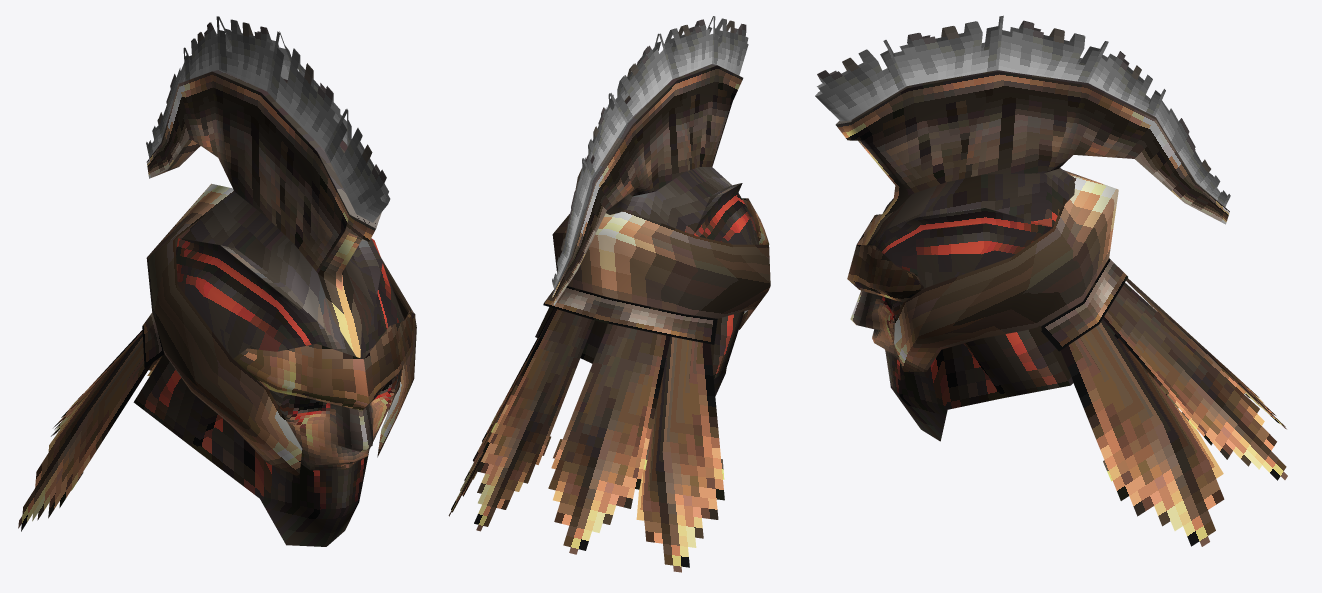
Rendered from f_helmet122.obj.
3 renders of one model, left to right at view 1: azimuth 30°, elevation 25°; view 2: azimuth 150°, elevation 25°; view 3: azimuth 270°, elevation 25°, orthographic. The views are drawn at different scales.
Visible parts, largest first — view 1: mesh02, mesh01; view 2: mesh02, mesh01; view 3: mesh02, mesh01.
Boxes of the visible parts, x1,y1,x2,y2 form: mesh02: (18,69,416,546); mesh01: (146,16,390,222); mesh02: (448,64,770,572); mesh01: (552,16,748,289); mesh02: (835,70,1287,546); mesh01: (815,15,1230,206).
Size of the model in its own units: 32.32 by 49.67 by 46.62.
Materials: 3 (3 with a texture image).
